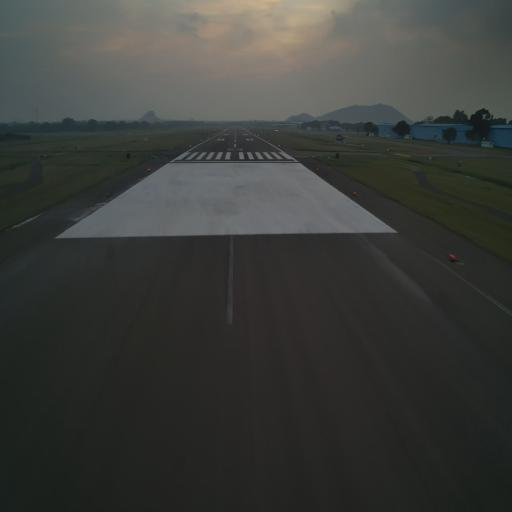off: (105, 190, 111, 200)
on: (448, 248, 456, 263), (352, 190, 357, 197)
